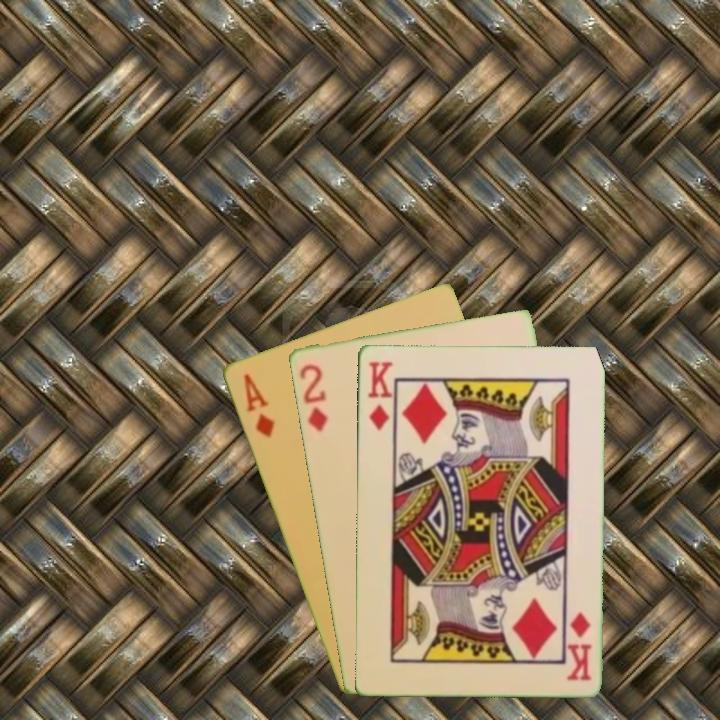2d: (295, 360, 330, 434)
Ad: (239, 370, 277, 441)
Kd: (364, 357, 395, 432), (564, 608, 594, 683)
